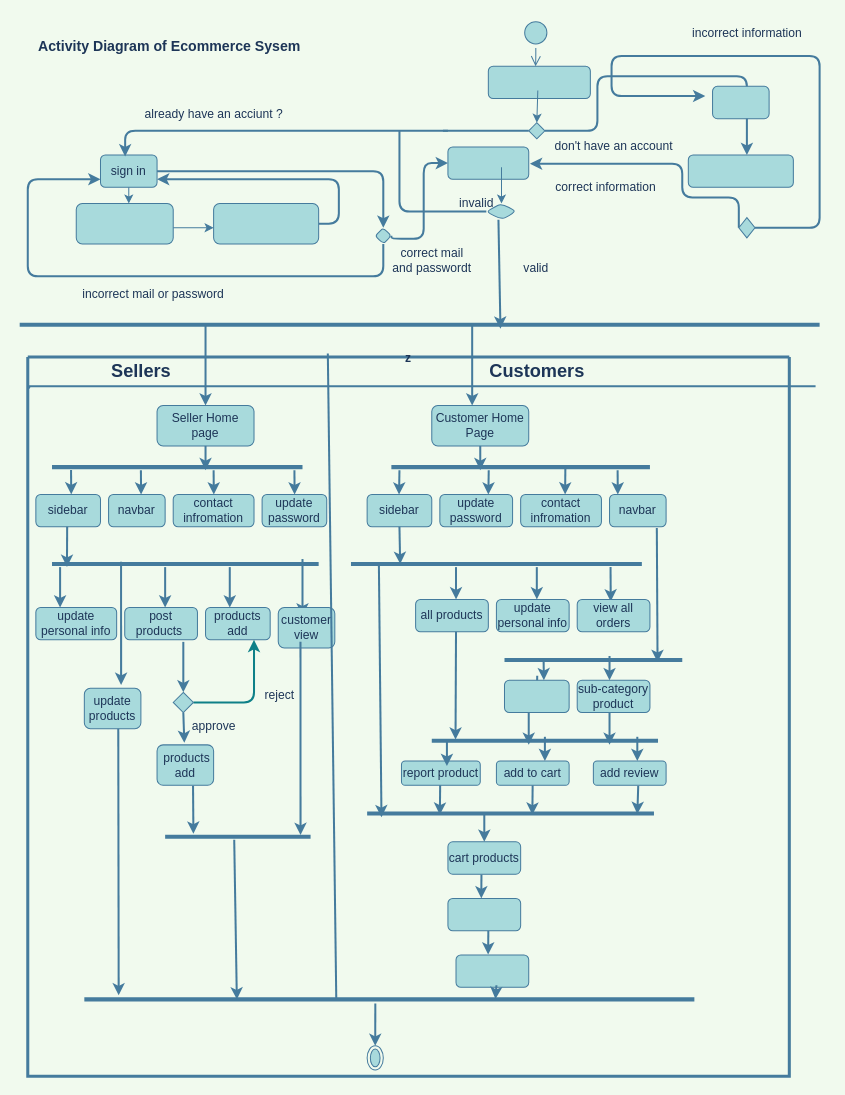
Some shapes in this 845 by 1095 pixel diagram are drawn without their labels. Each missing label, with the box of its shape:
authentication: (447, 146, 529, 179)
brand product: (503, 679, 569, 713)
change password: (213, 203, 319, 244)
Dashboard: (487, 65, 590, 98)
enter information: (687, 154, 793, 187)
forgot password: (75, 203, 173, 244)
payment: (447, 897, 521, 931)
place order: (455, 954, 529, 987)
Sign Up: (712, 85, 769, 119)
